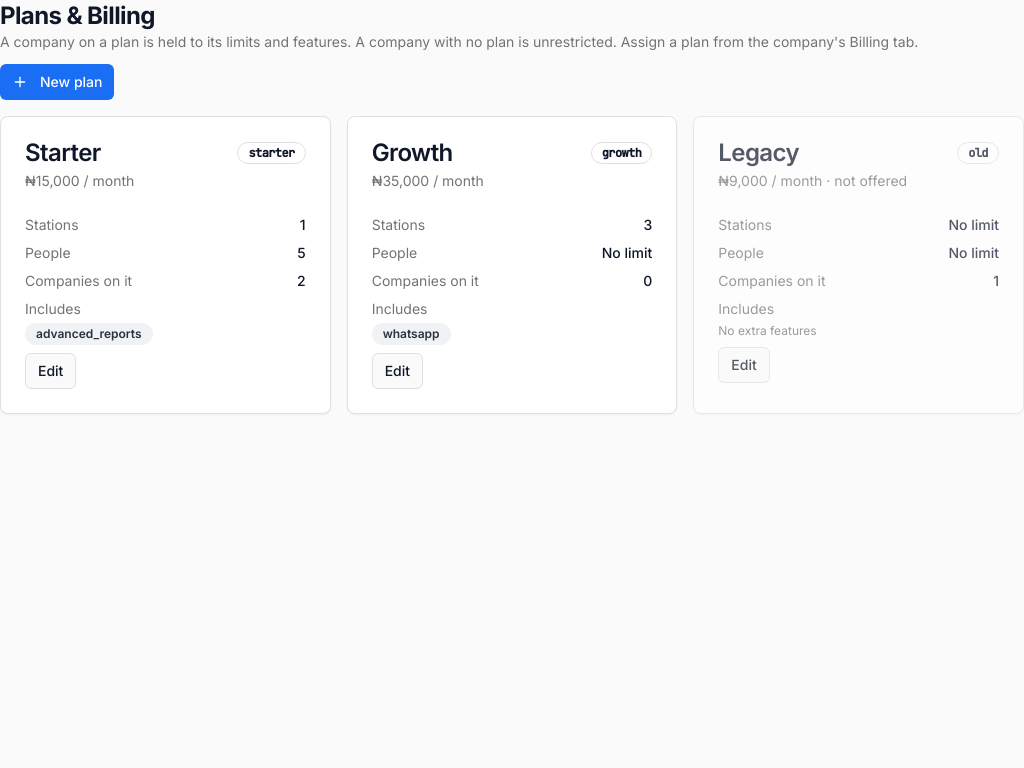
it: plans › a feature that is not built cannot be switched on for a plan
The image size is (1024, 768).
Click the button with aria-label "Edit Growth" at (397, 371), box [372,353,423,389]
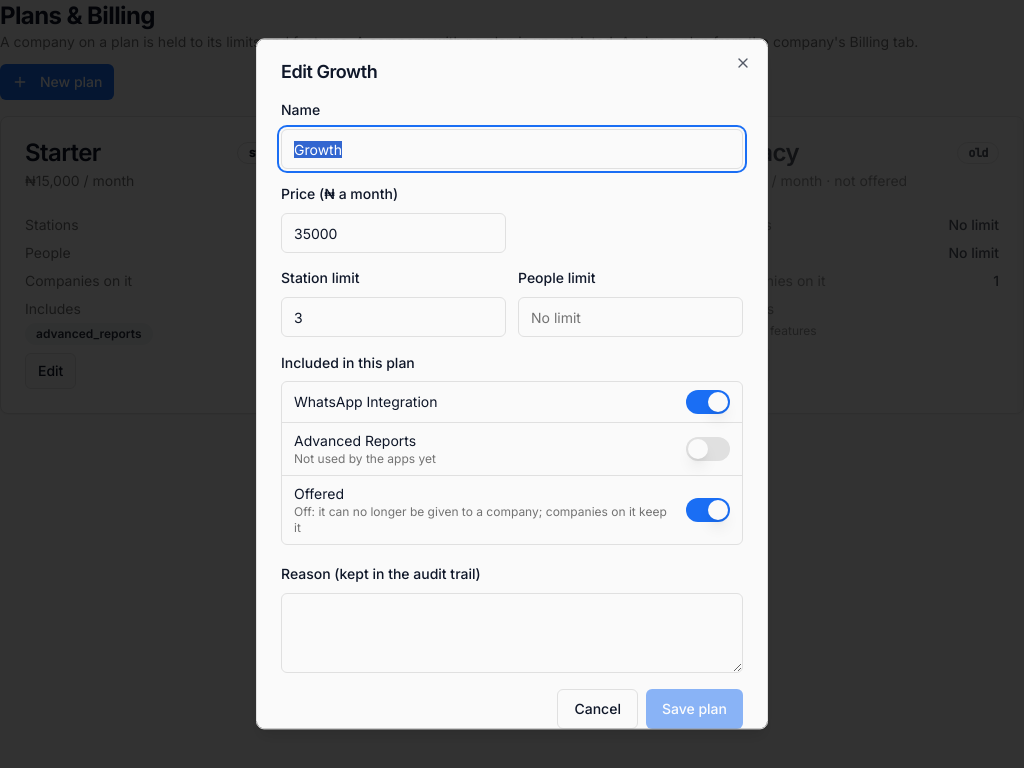
Check: the switch named "Advanced Reports" is disabled, box [686,437,730,461]
Check: the switch named "WhatsApp Integration" is enabled, box [686,390,730,414]
